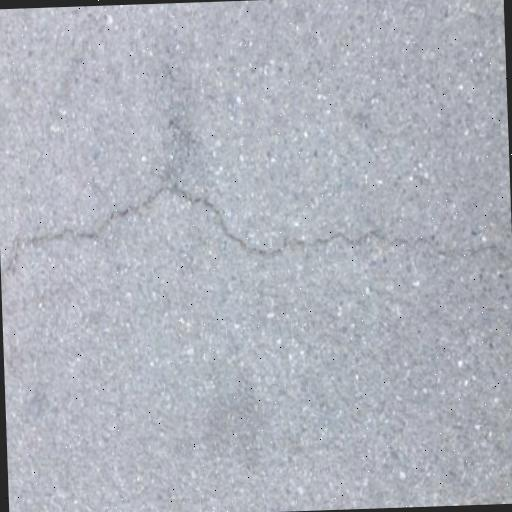spalling: (0, 174, 499, 279)
